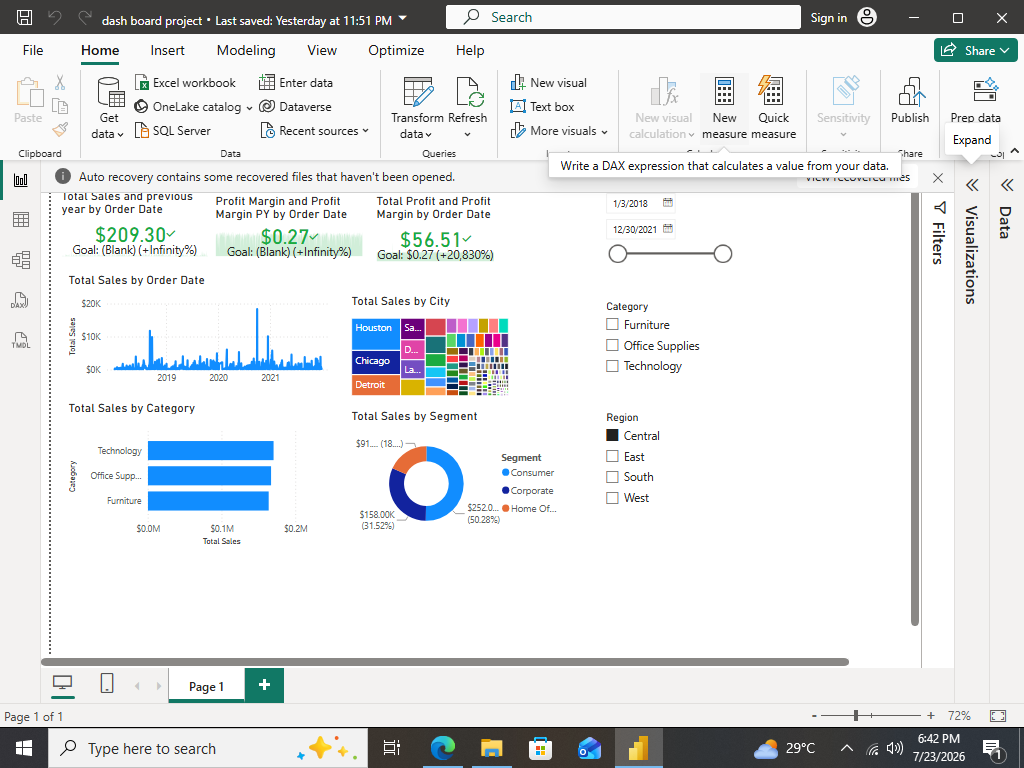

This screenshot's page, from the dashboard's own definition file:
{"tool":"powerbi","page":{"name":"Page 1","canvas":[1280,720],"ordinal":0},"visuals":[{"type":"kpi","fields":{"Indicator":["Measure Table.Total Sales"],"TrendLine":["Orders2.Order Date"],"Goal":["Measure Table.previous year"]},"box":[10,25.6,213.3,100],"z":0},{"type":"kpi","fields":{"Indicator":["Measure Table.Total Profit"],"TrendLine":["Orders2.Order Date"],"Goal":["Measure Table.Profit Margin"]},"box":[447.8,32.2,173.3,100],"z":1},{"type":"kpi","fields":{"Indicator":["Measure Table.Profit Margin"],"TrendLine":["Orders2.Order Date"],"Goal":["Measure Table.Profit Margin PY"]},"box":[223.3,32.2,214.4,93.3],"z":2},{"type":"lineChart","fields":{"Category":["Orders2.Order Date"],"Y":["Measure Table.Total Sales"]},"box":[18.9,141.1,374.4,165.6],"z":3},{"type":"barChart","fields":{"Category":["Orders2.Category"],"Y":["Measure Table.Total Sales"]},"box":[18.9,318.9,342,207],"z":4},{"type":"treemap","fields":{"Group":["Orders2.City"],"Values":["Measure Table.Total Sales"]},"box":[412.2,171.1,227.8,147.8],"z":5},{"type":"donutChart","fields":{"Category":["Orders2.Segment"],"Y":["Measure Table.Total Sales"]},"box":[412.2,330,307.8,180],"z":6},{"type":"slicer","fields":{"Values":["Orders2.Order Date"]},"box":[758.9,8.9,195.6,145.6],"z":7},{"type":"slicer","fields":{"Values":["Orders2.Region"]},"box":[758.9,330,182,153],"z":8},{"type":"slicer","fields":{"Values":["Orders2.Category"]},"box":[758.9,176.7,182,153],"z":9}]}

Visuals, with their boxes on the page's 1280x720 design canvas (x1, y1, x2, y2). These are canvas units, not pixel positions in the 1024x768 screenshot, which may show the page scaled, cropped or inside an application window:
kpi - Measure Table.Total Sales x Orders2.Order Date: {"x1": 10, "y1": 26, "x2": 223, "y2": 126}
kpi - Measure Table.Total Profit x Orders2.Order Date: {"x1": 448, "y1": 32, "x2": 621, "y2": 132}
kpi - Measure Table.Profit Margin x Orders2.Order Date: {"x1": 223, "y1": 32, "x2": 438, "y2": 126}
lineChart - Orders2.Order Date x Measure Table.Total Sales: {"x1": 19, "y1": 141, "x2": 393, "y2": 307}
barChart - Orders2.Category x Measure Table.Total Sales: {"x1": 19, "y1": 319, "x2": 361, "y2": 526}
treemap - Orders2.City x Measure Table.Total Sales: {"x1": 412, "y1": 171, "x2": 640, "y2": 319}
donutChart - Orders2.Segment x Measure Table.Total Sales: {"x1": 412, "y1": 330, "x2": 720, "y2": 510}
slicer - Orders2.Order Date: {"x1": 759, "y1": 9, "x2": 954, "y2": 154}
slicer - Orders2.Region: {"x1": 759, "y1": 330, "x2": 941, "y2": 483}
slicer - Orders2.Category: {"x1": 759, "y1": 177, "x2": 941, "y2": 330}
